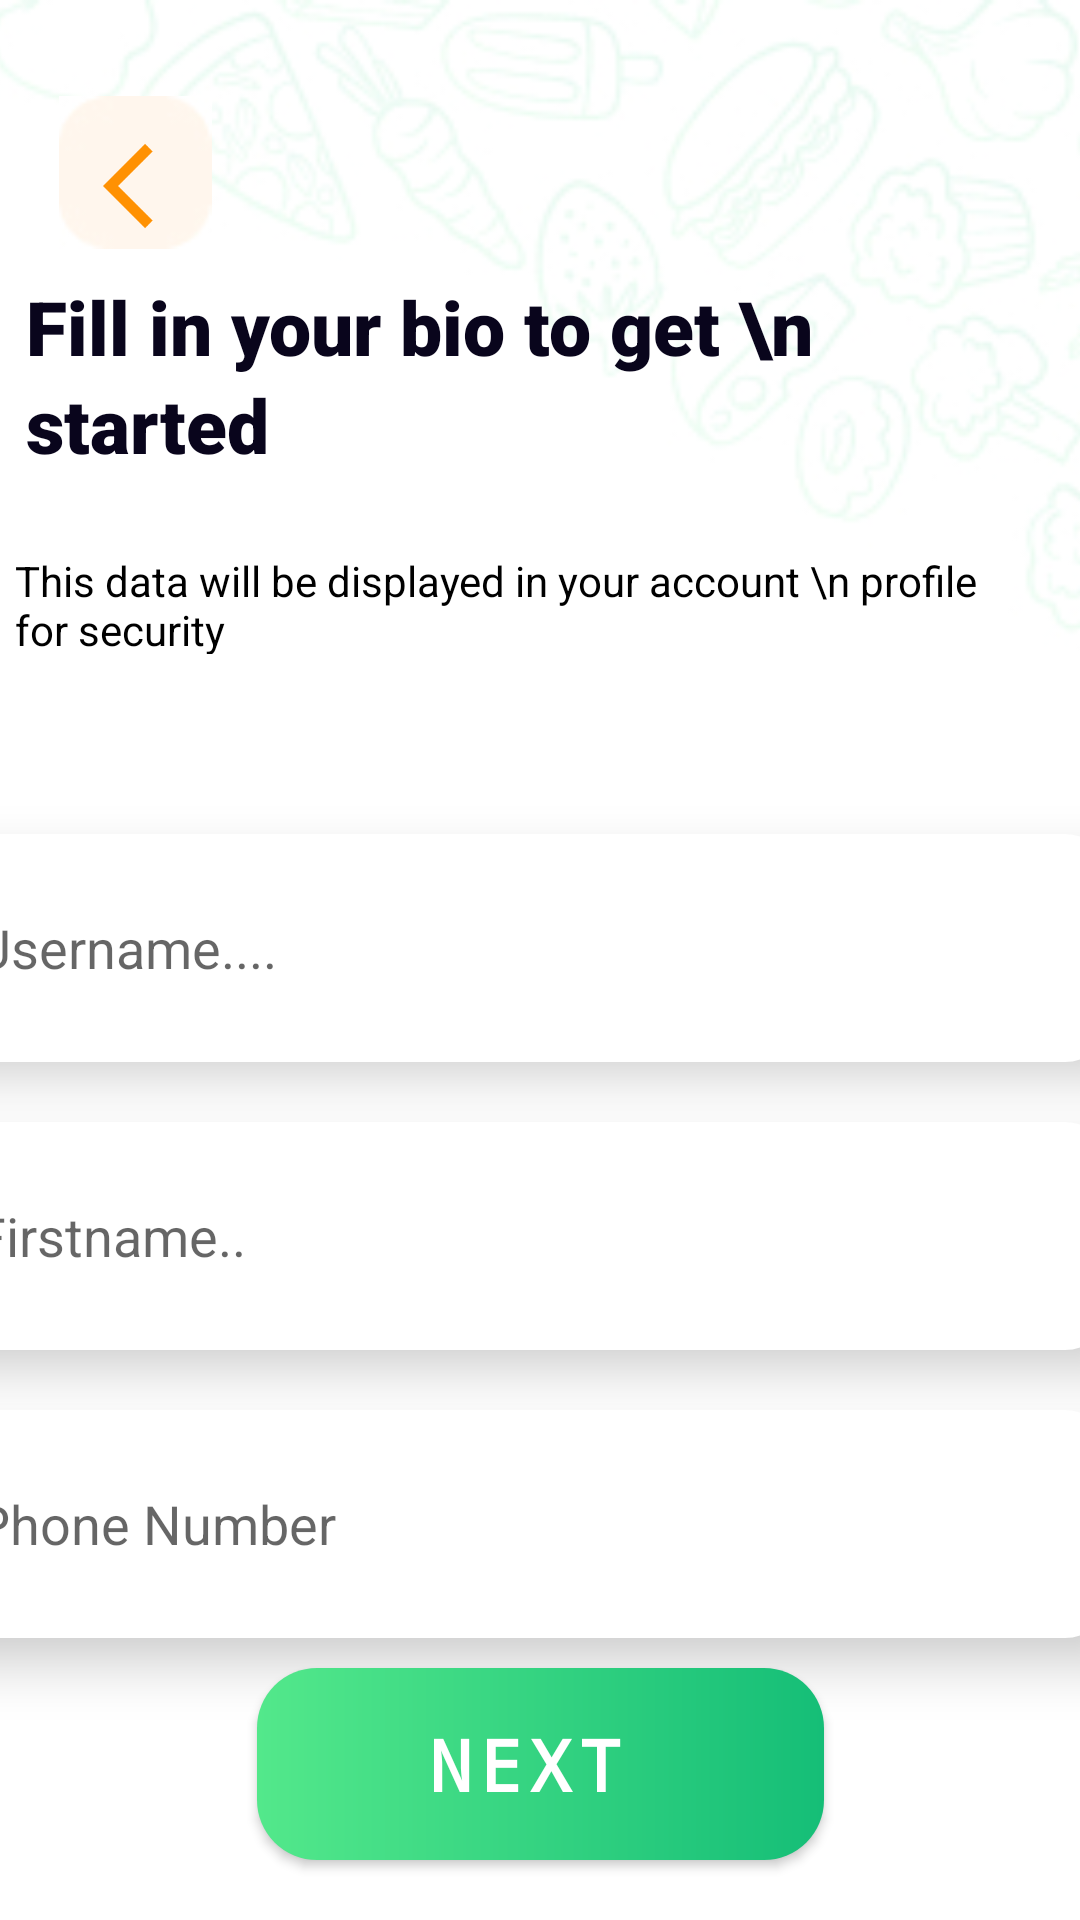

Where to tap for icons on this 1080w x 1920h app screen, as [x,y]:
arrow back: [128,186]
